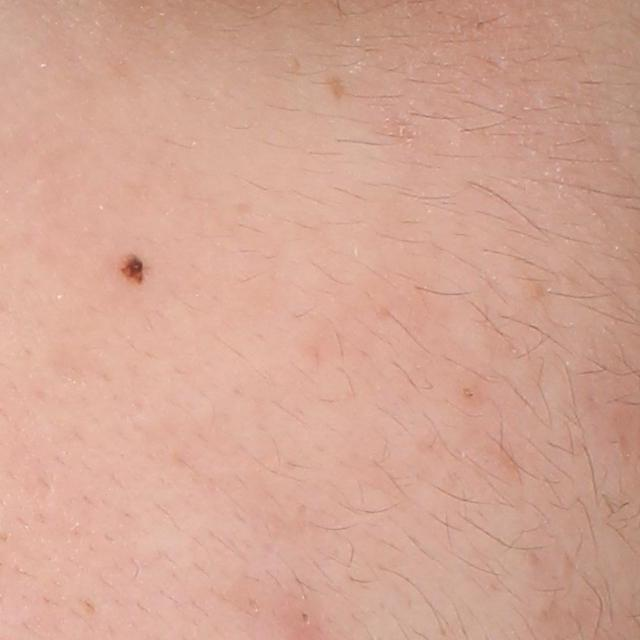comedo: (297, 608, 314, 629)
melasma: (323, 74, 350, 101)
nevus: (118, 250, 149, 286)
